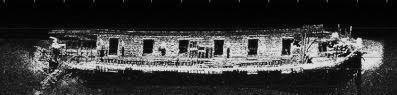ship: (33, 23, 362, 75)
